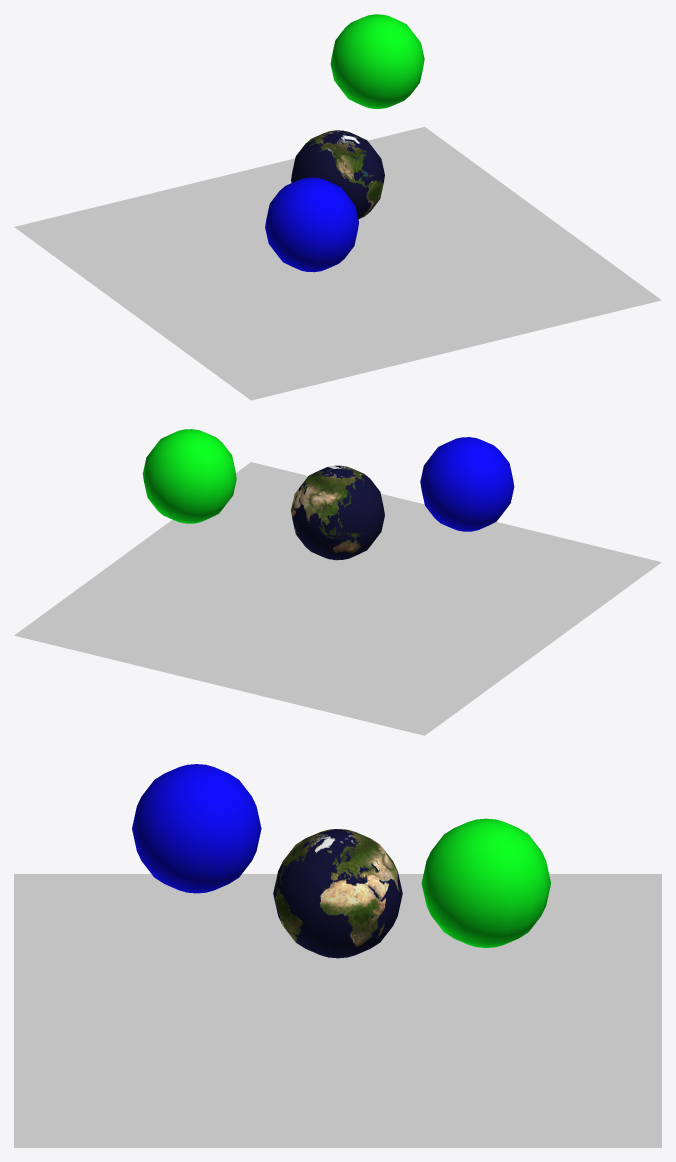
File: reflections.glb
3 renders of one model, top to bottom at view 1: azimuth 30°, elevation 25°; view 2: azimuth 150°, elevation 25°; view 3: azimuth 270°, elevation 25°, orthographic. The views are drawn at different scales.
Parts seen in each view (by area): view 1: Plane, Sphere.001, Sphere.002, Sphere; view 2: Plane, Sphere, Sphere.001, Sphere.002; view 3: Plane, Sphere.002, Sphere, Sphere.001.
Part boxes in pixels (x1=…): Plane: x1=14, y1=126, x2=661, y2=400; Sphere.001: x1=330, y1=14, x2=424, y2=108; Sphere.002: x1=265, y1=177, x2=358, y2=272; Sphere: x1=291, y1=130, x2=384, y2=219; Plane: x1=14, y1=462, x2=661, y2=735; Sphere: x1=291, y1=465, x2=384, y2=560; Sphere.001: x1=142, y1=429, x2=236, y2=523; Sphere.002: x1=420, y1=437, x2=514, y2=531; Plane: x1=14, y1=874, x2=661, y2=1147; Sphere.002: x1=132, y1=764, x2=261, y2=893; Sphere: x1=273, y1=829, x2=402, y2=958; Sphere.001: x1=421, y1=818, x2=550, y2=947.
Bounding box in the file's own units: 10 × 4.24 × 10.
Materials: 4 (1 with a texture image).
